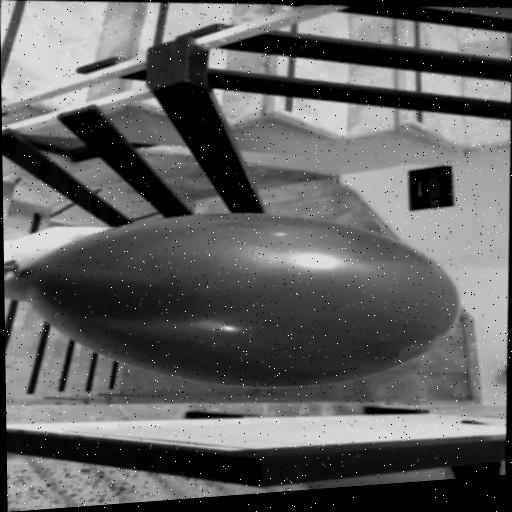balloon: (3, 173, 474, 420)
